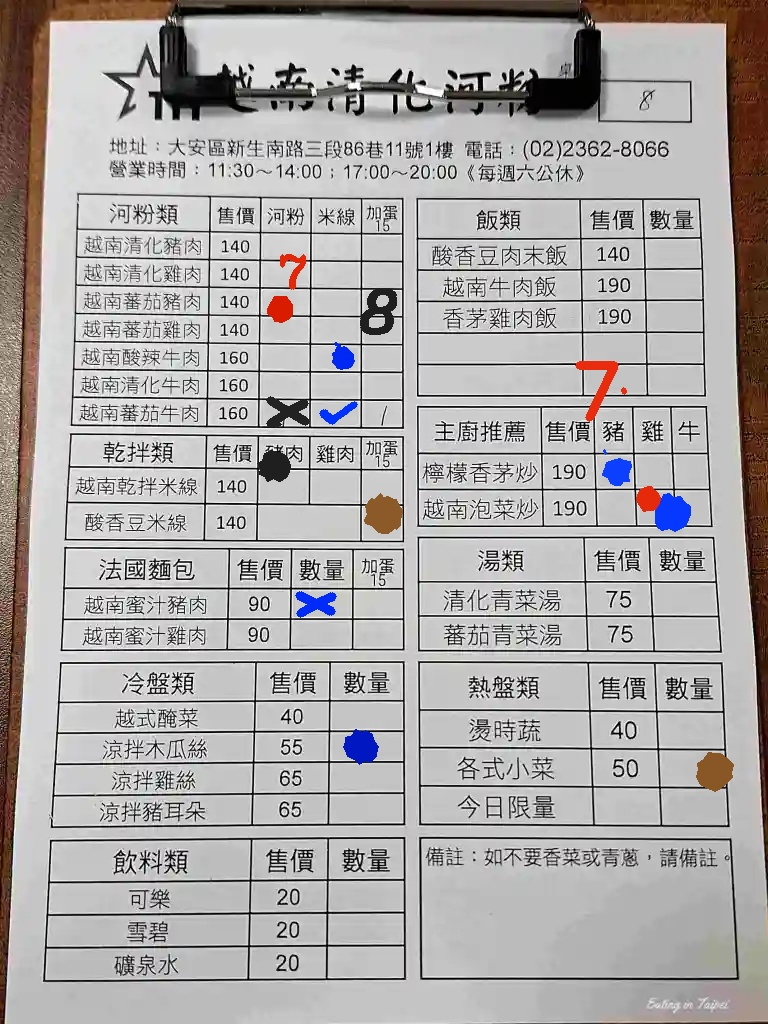marked_circle: (657, 748, 726, 783), (332, 732, 401, 767), (257, 469, 309, 502), (671, 489, 711, 526), (594, 450, 634, 487), (635, 488, 675, 525), (362, 502, 402, 539), (311, 343, 360, 371), (261, 288, 310, 316)
marked_number_7: (585, 362, 645, 392), (262, 258, 311, 286)
marked_number_8: (363, 287, 403, 317)
marked_tick: (312, 400, 361, 428)
marked_x: (290, 587, 352, 617), (261, 398, 310, 426)
